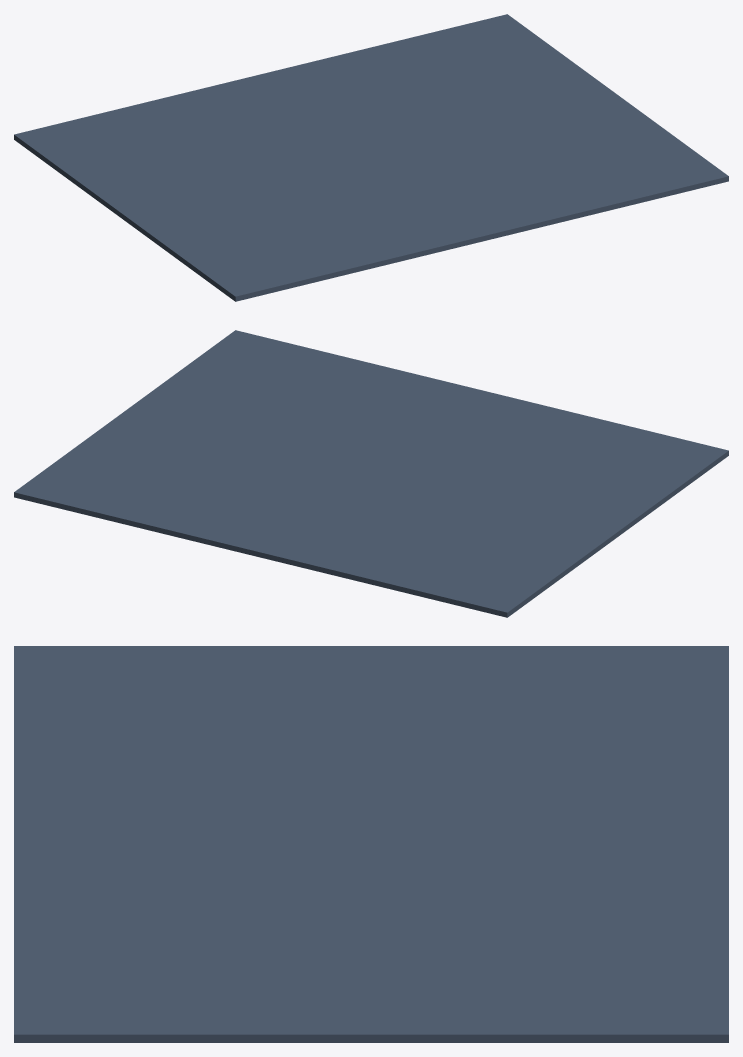
The model's file is floor_003_l_old_receiving_staryy_priemnyy_zal_2_floor.obj.
3 views of the same model, one above another, from view 1: azimuth 30°, elevation 25°; view 2: azimuth 150°, elevation 25°; view 3: azimuth 270°, elevation 25° (orthographic). The views are drawn at different scales.
Visible parts, largest first — view 1: Floor_003_l_old_receiving_staryy_priemnyy_zal_2_floor; view 2: Floor_003_l_old_receiving_staryy_priemnyy_zal_2_floor; view 3: Floor_003_l_old_receiving_staryy_priemnyy_zal_2_floor.
Part boxes in pixels (x1,y1,x2,y2): Floor_003_l_old_receiving_staryy_priemnyy_zal_2_floor: [14, 14, 728, 301]; Floor_003_l_old_receiving_staryy_priemnyy_zal_2_floor: [14, 330, 728, 617]; Floor_003_l_old_receiving_staryy_priemnyy_zal_2_floor: [14, 646, 728, 1042].
Bounding box in the file's own units: 19.99 × 0.2 × 15.54.
